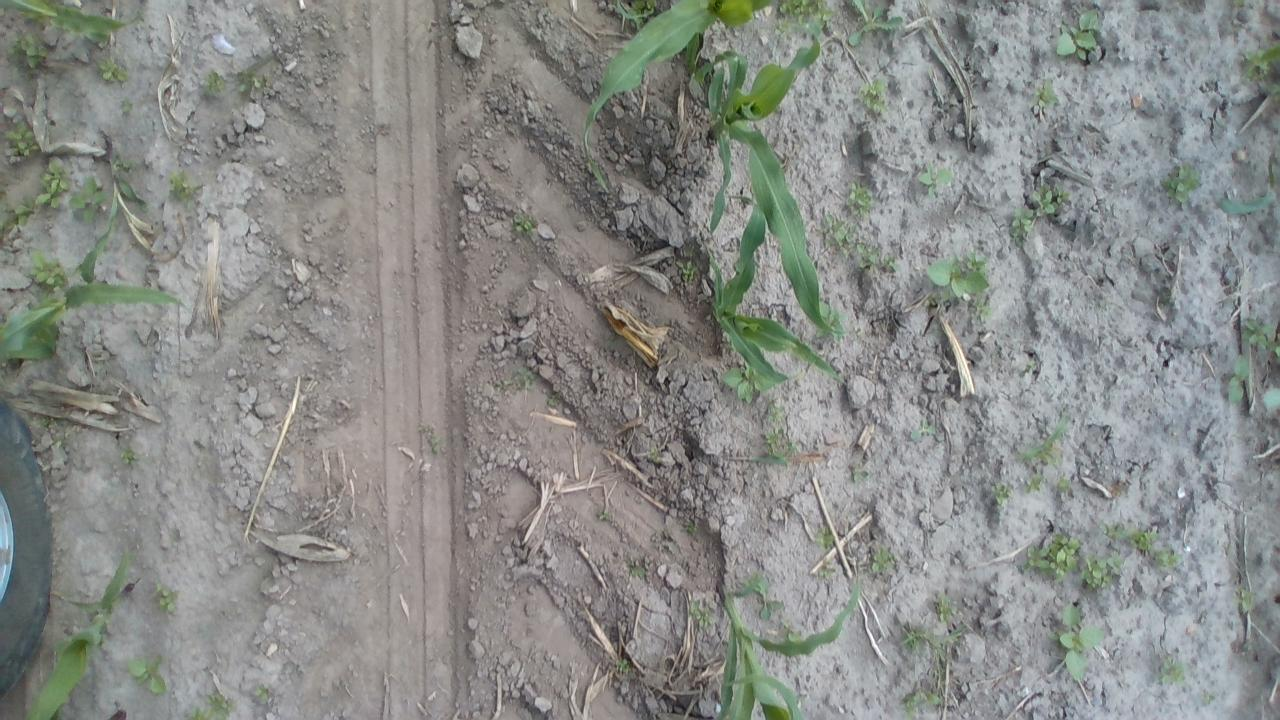Maize: (686, 34, 840, 334), (591, 0, 794, 190), (696, 196, 839, 391), (701, 572, 862, 720), (2, 274, 186, 369), (27, 556, 134, 718), (0, 0, 130, 49)
Weeds: (899, 624, 961, 716), (822, 214, 898, 276), (1011, 186, 1070, 244), (1026, 528, 1084, 580), (1056, 600, 1088, 687), (928, 261, 988, 307), (1126, 528, 1180, 574), (846, 1, 901, 46), (1016, 422, 1074, 463), (1054, 10, 1100, 61), (1238, 42, 1280, 96), (739, 577, 781, 620), (72, 177, 104, 229), (778, 1, 830, 33), (724, 367, 772, 401), (1162, 162, 1200, 202), (130, 654, 168, 693), (36, 162, 66, 209), (6, 119, 42, 158), (186, 692, 236, 720), (1146, 648, 1182, 686), (917, 162, 955, 198), (1220, 356, 1250, 400), (25, 255, 66, 287), (762, 433, 796, 469), (1242, 314, 1274, 351), (1079, 564, 1119, 592), (4, 196, 35, 230), (165, 174, 200, 202), (860, 80, 890, 112), (12, 42, 45, 71), (96, 57, 130, 84), (820, 300, 844, 335), (152, 586, 181, 614), (872, 546, 896, 578), (848, 188, 876, 214), (764, 399, 788, 426), (911, 417, 936, 442), (984, 481, 1009, 505), (688, 601, 711, 627), (934, 590, 952, 622), (235, 70, 257, 96), (1038, 80, 1059, 107), (512, 212, 536, 234), (207, 68, 226, 94), (817, 527, 837, 550), (518, 366, 538, 388), (1024, 471, 1042, 494), (250, 684, 270, 704), (626, 558, 649, 575), (680, 520, 700, 535), (120, 448, 136, 466), (612, 659, 630, 672)
